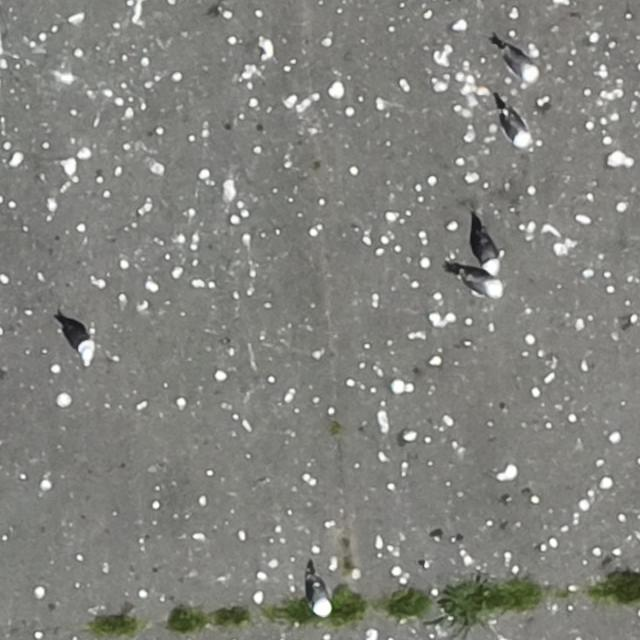umineko: (61, 319, 92, 356), (504, 112, 531, 148), (505, 49, 536, 80), (462, 272, 501, 296), (476, 231, 500, 270), (310, 581, 330, 615)
